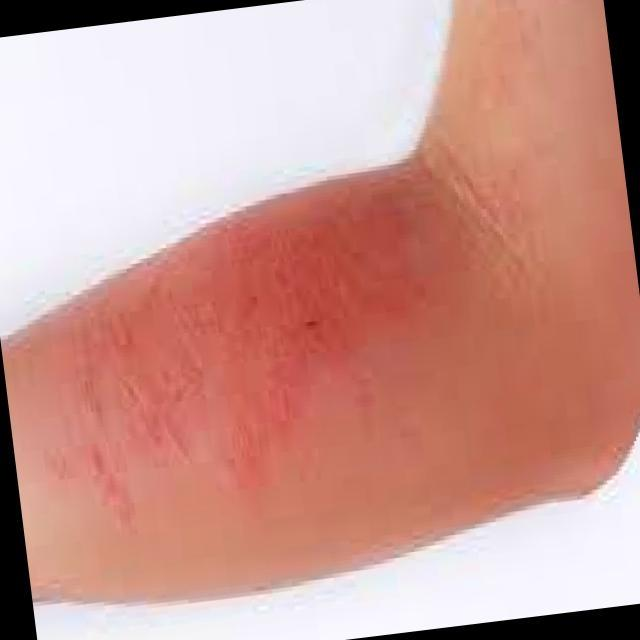Eczema: (44, 163, 472, 489)
